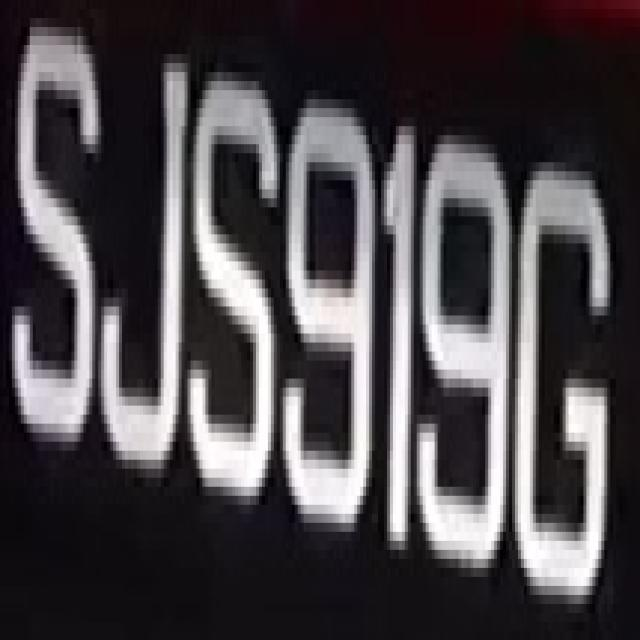1: (384, 72, 417, 586)
9: (277, 72, 375, 559), (417, 99, 509, 568)
G: (512, 153, 628, 631)
J: (104, 18, 188, 496)
S: (188, 36, 288, 559), (12, 27, 101, 478)
